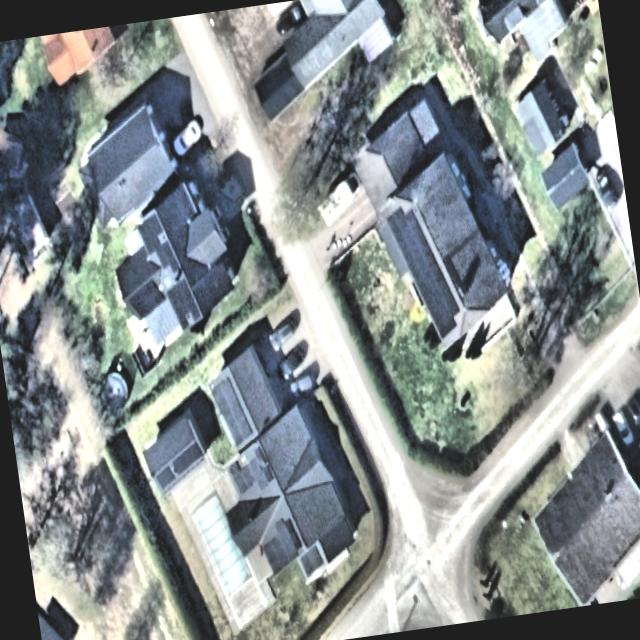roof_pv: (210, 372, 254, 450), (381, 200, 434, 256), (418, 288, 464, 344), (258, 514, 302, 570), (404, 248, 448, 294), (168, 278, 202, 330), (127, 278, 169, 320), (228, 458, 270, 497), (136, 213, 168, 256), (156, 243, 182, 278)
